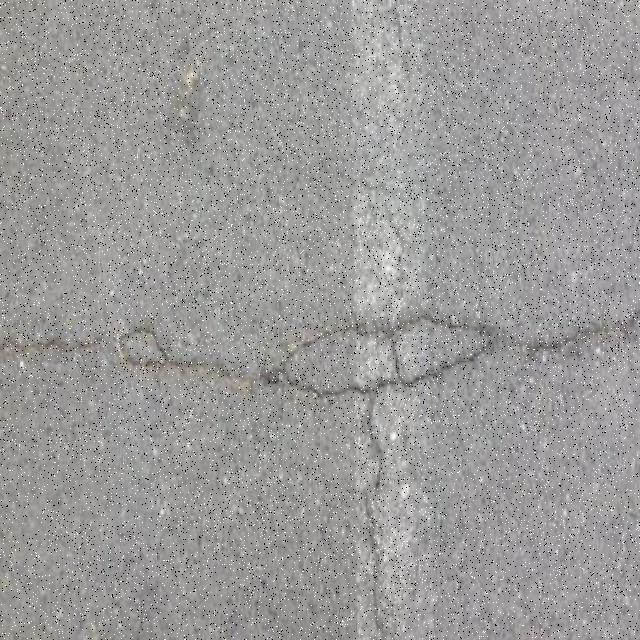Crack: (0, 313, 640, 492), (0, 328, 370, 399), (356, 313, 640, 386), (319, 319, 419, 493), (362, 489, 389, 639), (575, 325, 630, 342)
